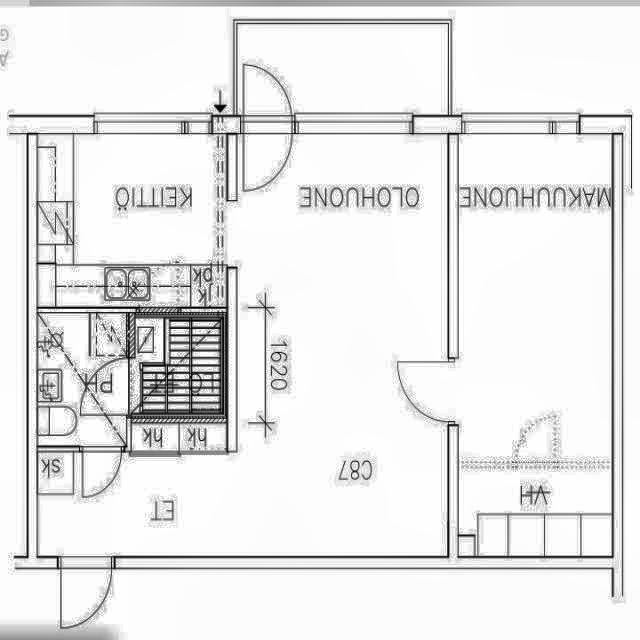room: (459, 135, 611, 555), (38, 314, 126, 446)
